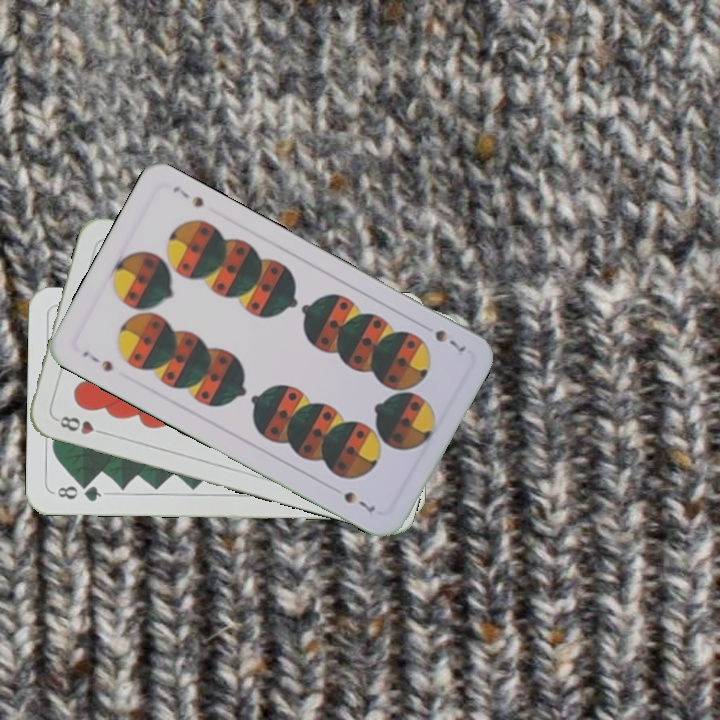G8: (53, 480, 104, 504)
H8: (52, 412, 110, 438)
S7: (431, 325, 469, 359), (78, 346, 116, 375)
